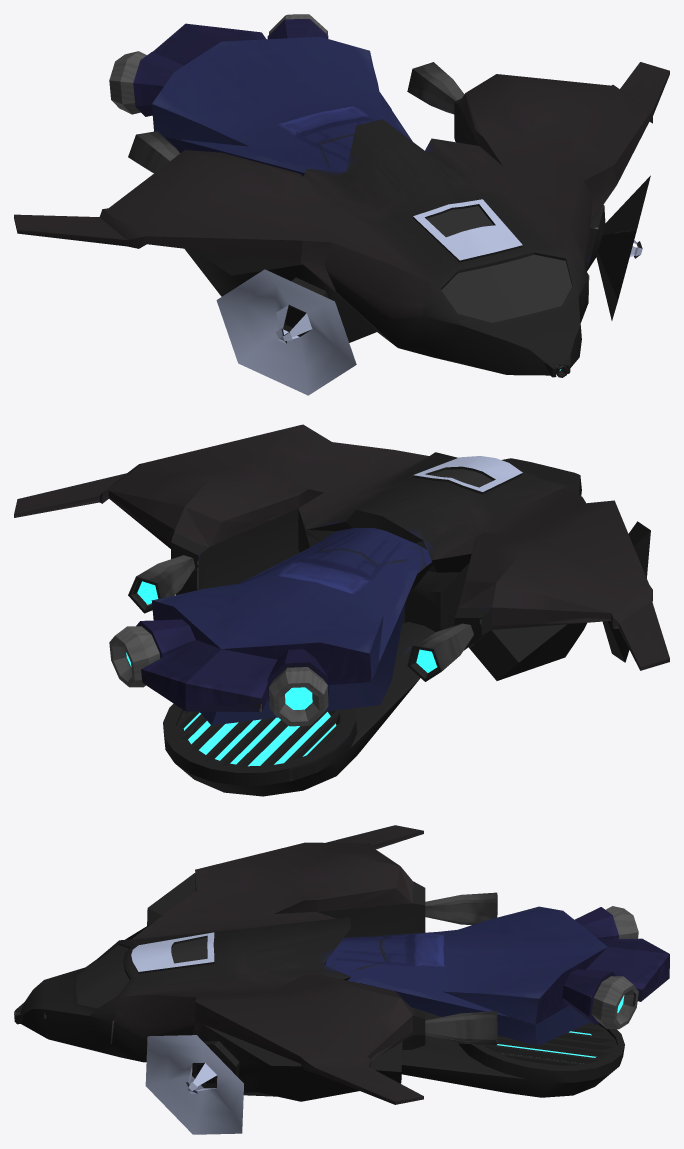
The model's file is Cursed Space.glb.
3 views of the same model, one above another, from view 1: azimuth 30°, elevation 25°; view 2: azimuth 150°, elevation 25°; view 3: azimuth 270°, elevation 25° (orthographic). The views are drawn at different scales.
Parts seen in each view (by area): view 1: Spaceship.002; view 2: Spaceship.002; view 3: Spaceship.002.
Part boxes in pixels (left/top/right/bottom): Spaceship.002: left=14, top=14, right=669, bottom=395; Spaceship.002: left=14, top=424, right=669, bottom=796; Spaceship.002: left=14, top=825, right=669, bottom=1134.
Bounding box in the file's own units: 5.7 × 1.45 × 5.71.
4 materials, 1 textured.
